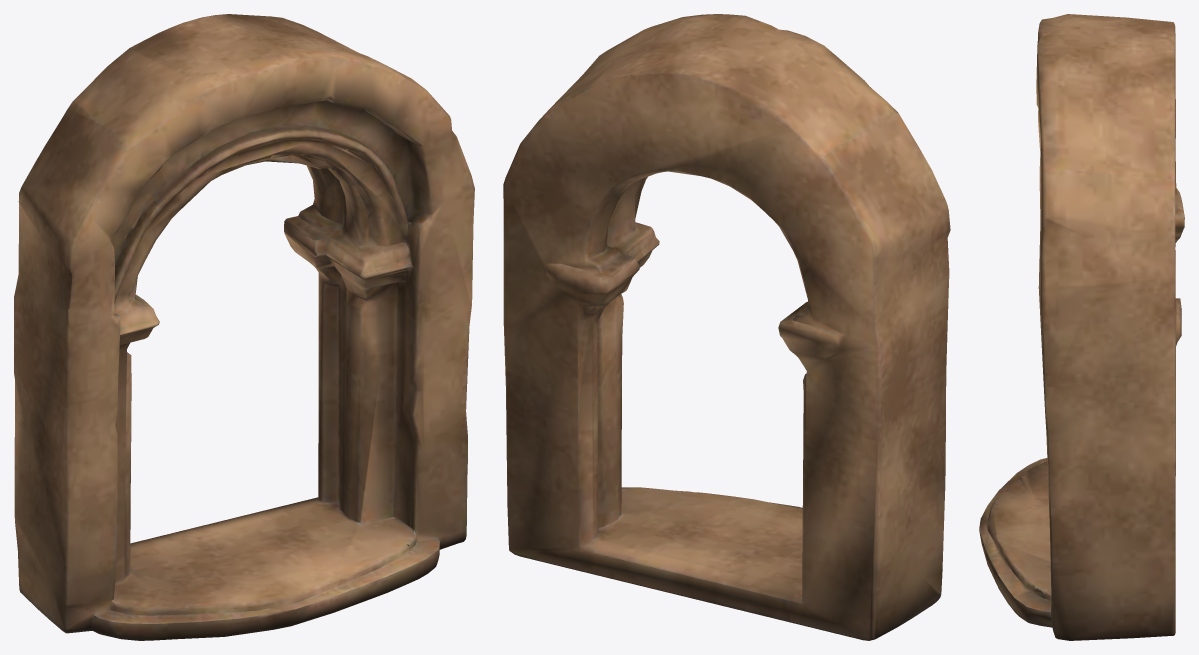
File: chipped-sandstone-arched-doorway-v001.glb
3 renders of one model, left to right at view 1: azimuth 30°, elevation 25°; view 2: azimuth 150°, elevation 25°; view 3: azimuth 270°, elevation 25°, orthographic. The views are drawn at different scales.
Visible parts, largest first — view 1: chipped-sandstone-arched-doorway; view 2: chipped-sandstone-arched-doorway; view 3: chipped-sandstone-arched-doorway.
Boxes of the visible parts, left/top/right/bottom form: chipped-sandstone-arched-doorway: left=14, top=14, right=474, bottom=640; chipped-sandstone-arched-doorway: left=503, top=14, right=950, bottom=640; chipped-sandstone-arched-doorway: left=979, top=14, right=1184, bottom=640.
Size of the model in its own units: 1.97 by 2.53 by 0.9201.
1 material, 1 textured.
